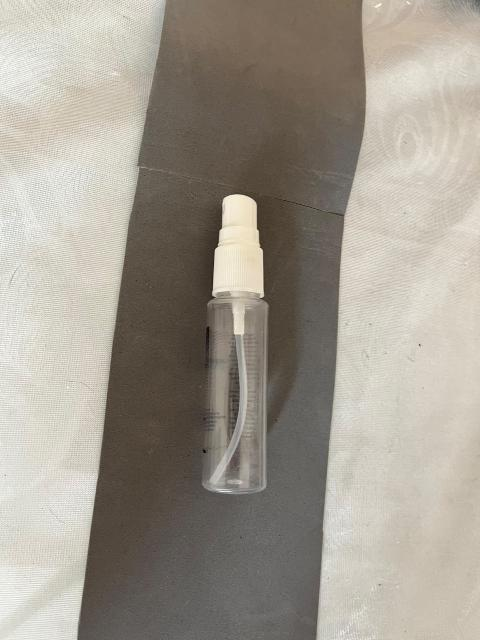PET: (168, 159, 321, 554)
